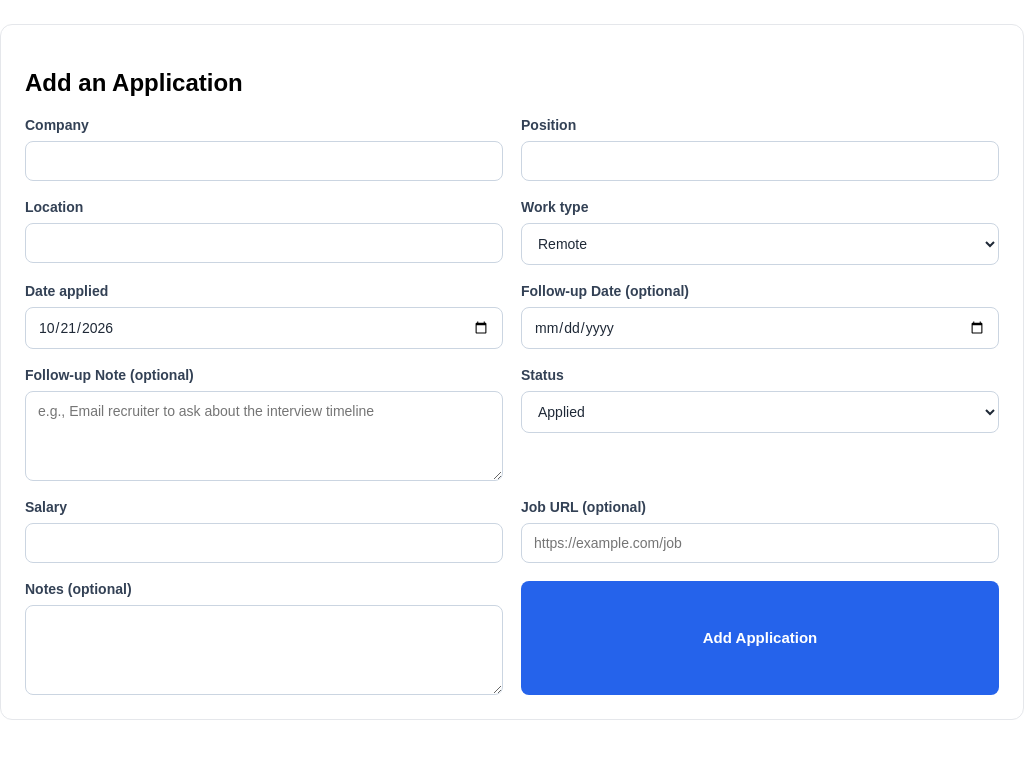
Test: ApplicationForm › rejects a salary that is zero or negative
The width and height of the screenshot is (1024, 768).
Type "Example Company" into the field labelled "Company". click: (264, 161)
box: [25,141,503,181]
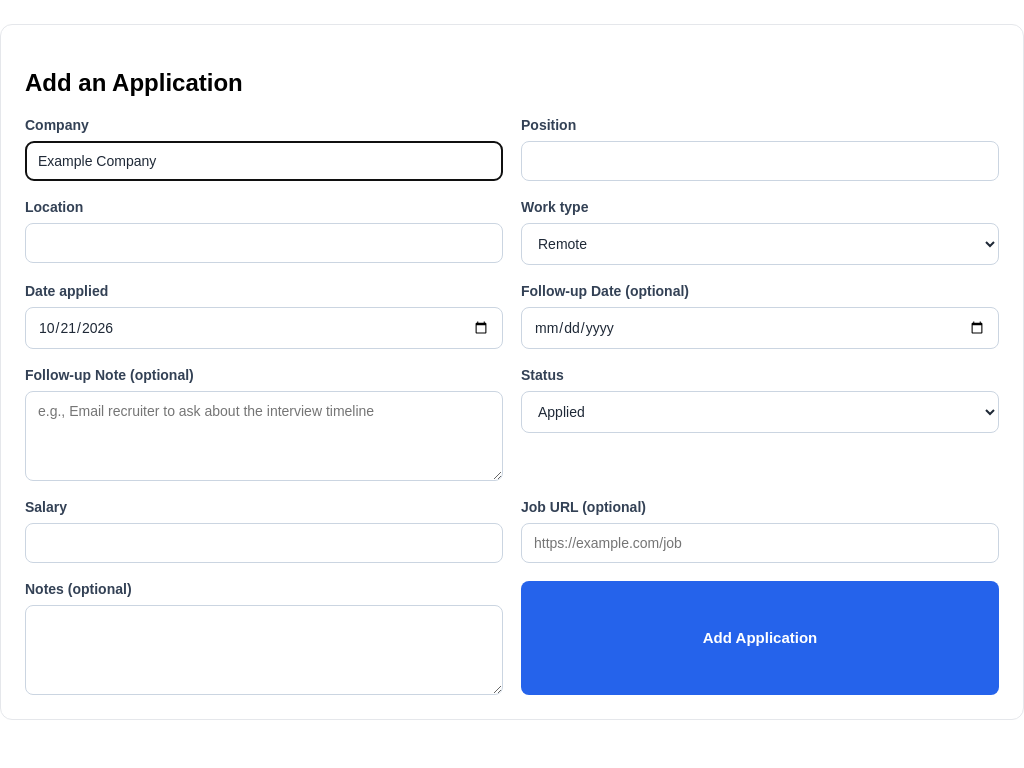
Type "Frontend Developer" into the field labelled "Position". click: (760, 161)
box: [521,141,999,181]
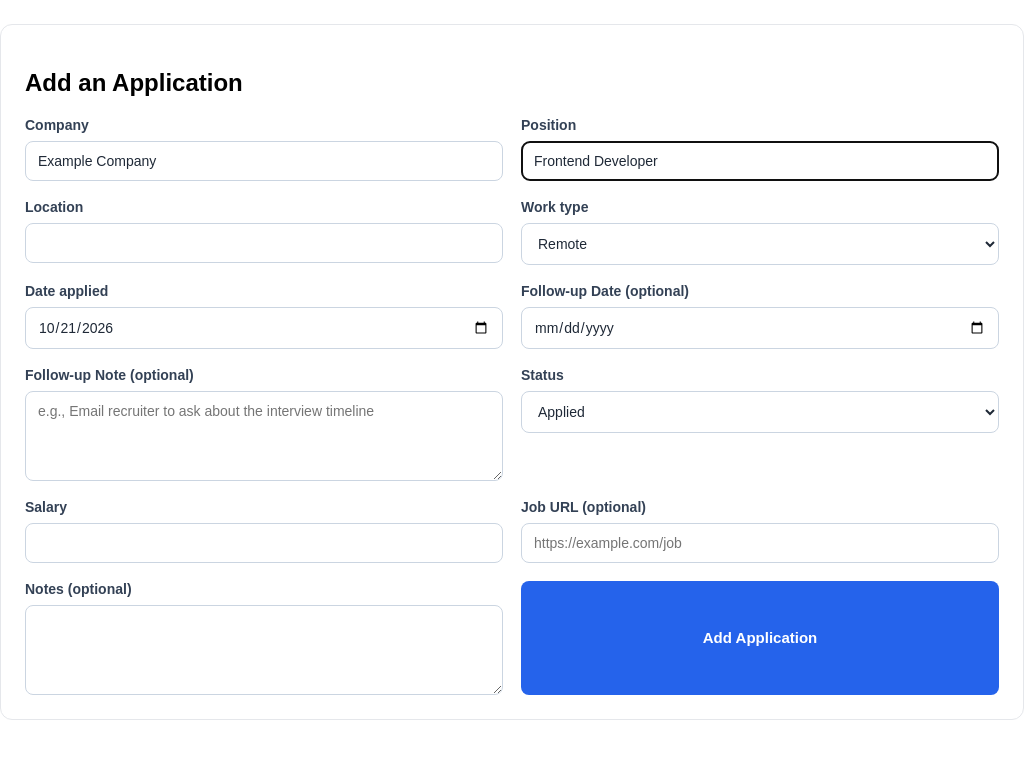
Type "Remote" into the field labelled "Location". click: (264, 243)
box: [25,223,503,263]
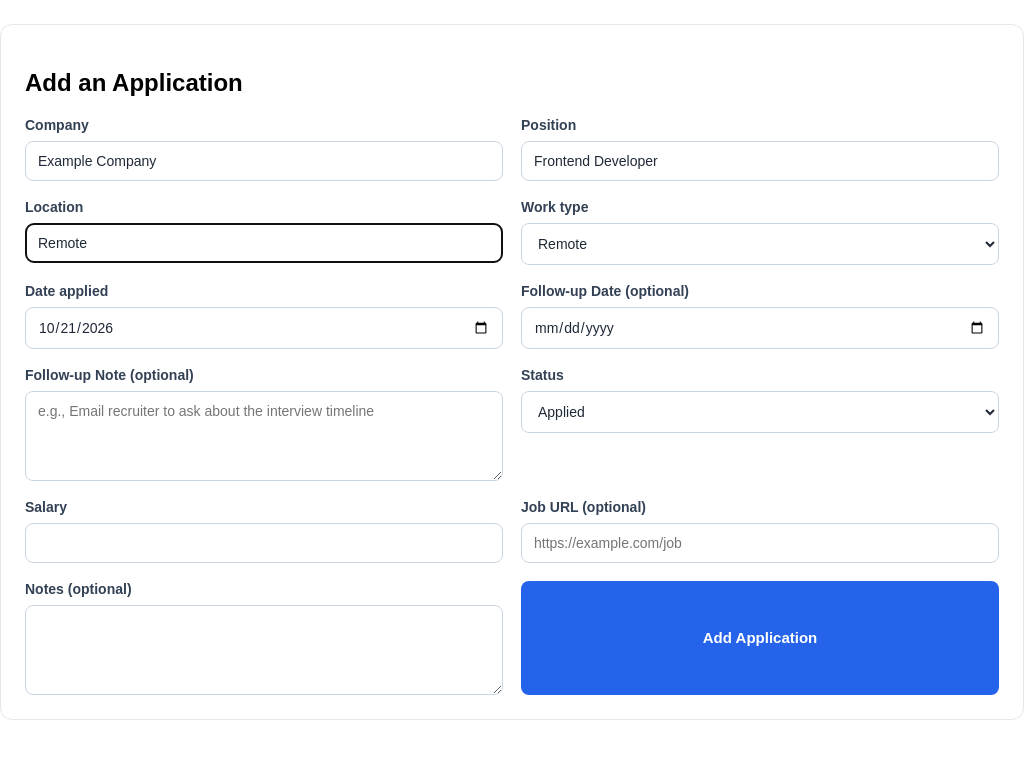
Type "0" into the number field labelled "Salary". click: (264, 543)
box: [25,523,503,563]
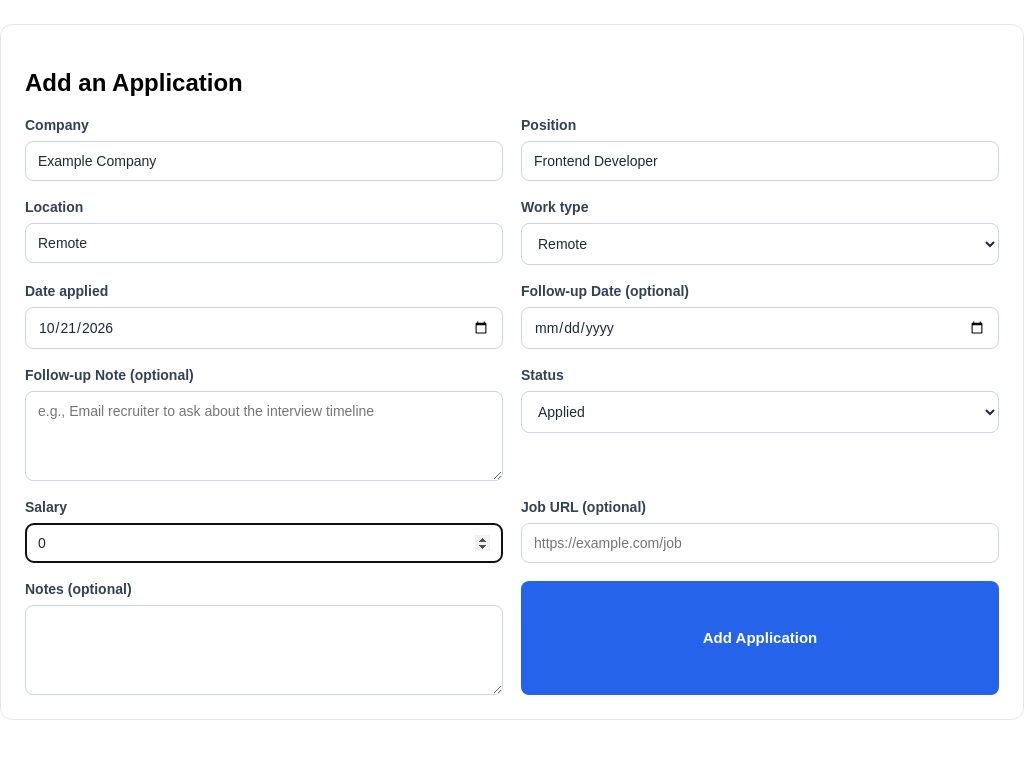
Click the button "Add Application". click: (760, 638)
box: [521,581,999,695]
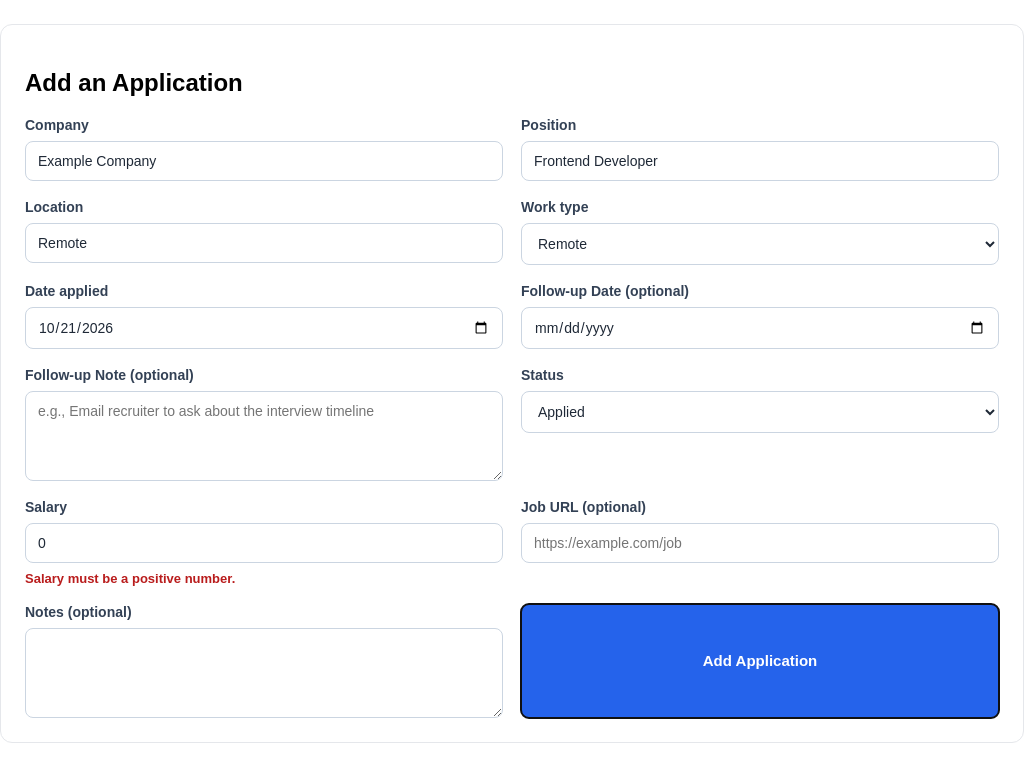
Now the text "Salary must be a positive number." is shown, box [25,571,235,586]
